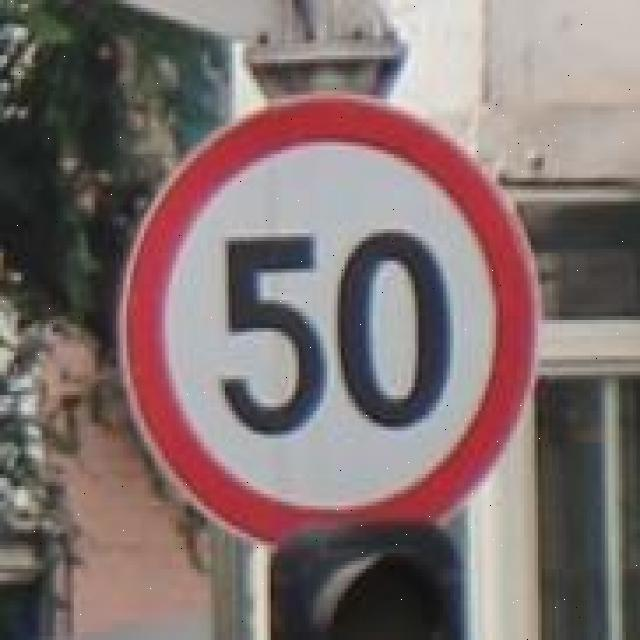speed limit 50: (117, 93, 539, 548)
